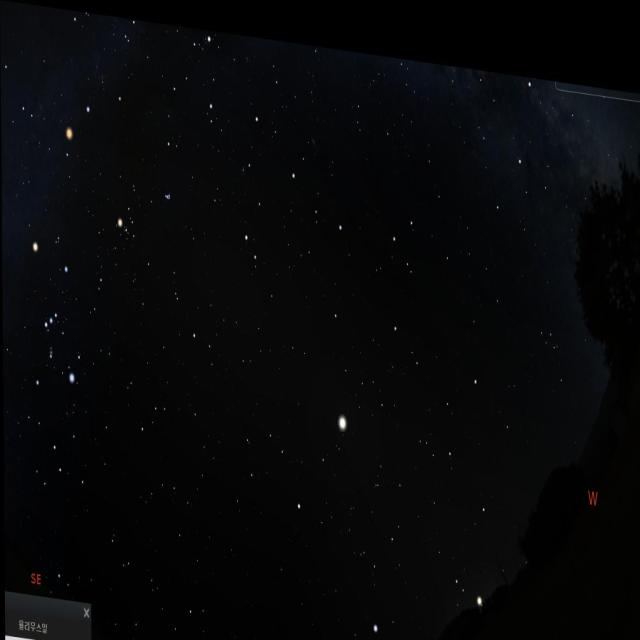orion: (18, 211, 82, 394)
pleiades: (163, 176, 175, 208)
taurus: (114, 179, 174, 271)
